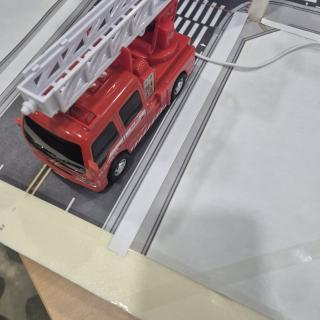Fire_truck: (15, 0, 195, 191)
